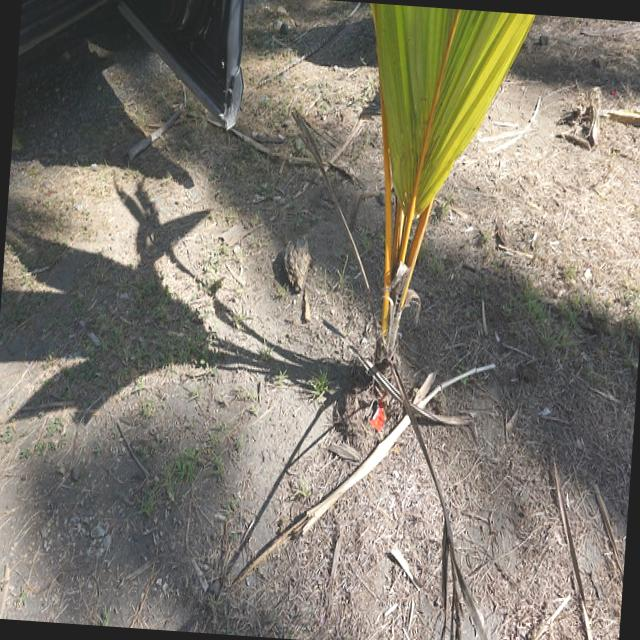Trash: (371, 390, 390, 440)
